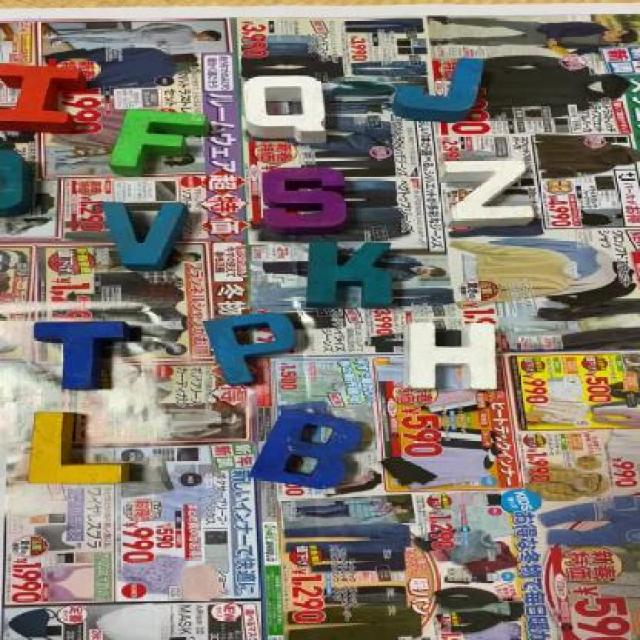B: (258, 414, 370, 488)
F: (111, 108, 202, 170)
H: (398, 323, 498, 391)
I: (0, 62, 77, 133)
J: (400, 61, 488, 118)
K: (312, 243, 399, 305)
L: (24, 409, 131, 485)
P: (207, 314, 298, 381)
Q: (244, 76, 331, 144)
S: (263, 167, 343, 236)
T: (41, 320, 125, 394)
V: (100, 202, 189, 268)
Z: (440, 162, 531, 230)
